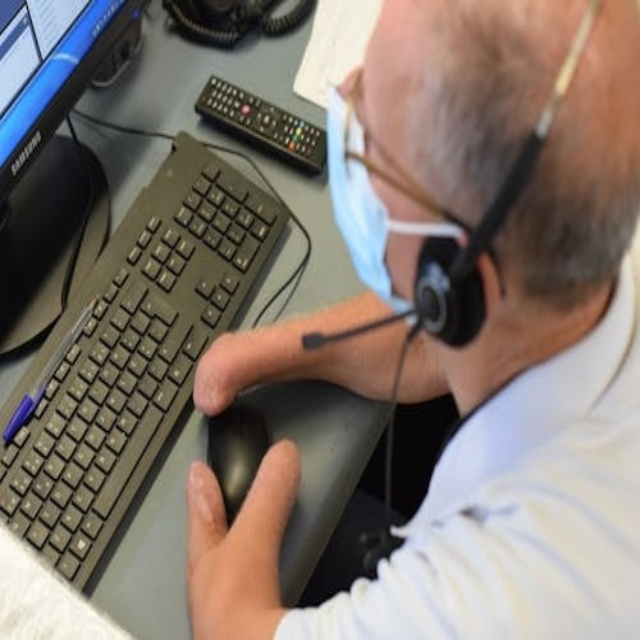Gafas: (334, 71, 490, 264)
Mascara: (325, 73, 455, 319)
